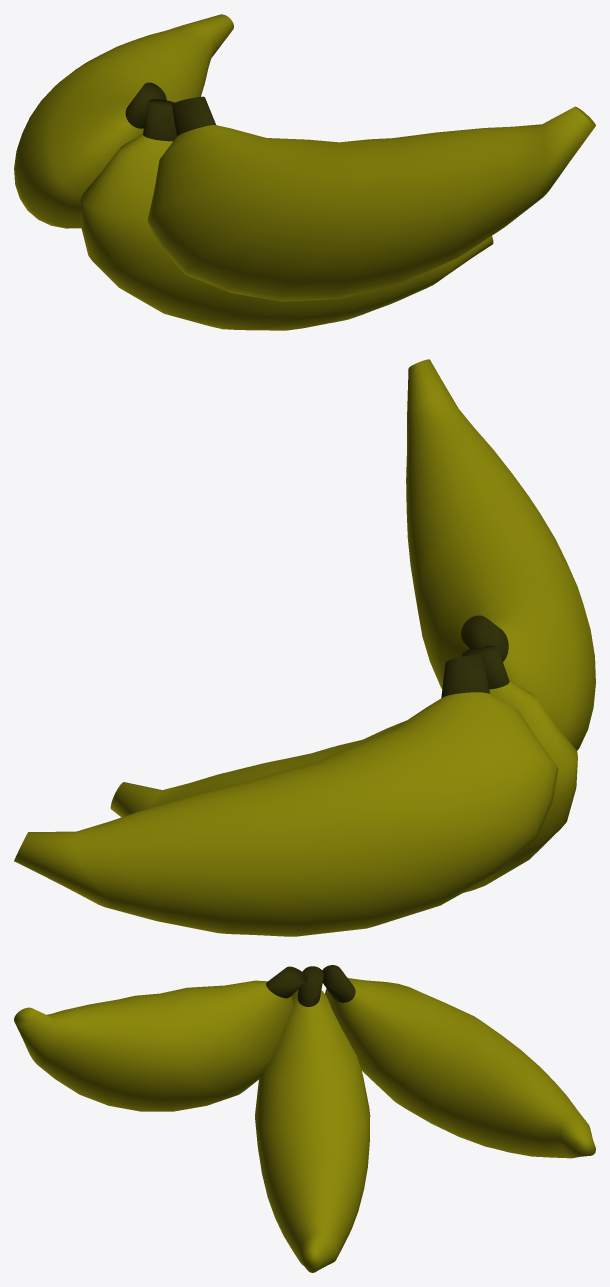
The model's file is Platano.fbx.
The picture shows the model from 3 angles, top to bottom: view 1: azimuth 30°, elevation 25°; view 2: azimuth 150°, elevation 25°; view 3: azimuth 270°, elevation 25°; orthographic projection. The views are drawn at different scales.
Visible parts, largest first — view 1: Plátano; view 2: Plátano; view 3: Plátano.
Part boxes in pixels (x1,y1,x2,y2): Plátano: (14,14,595,330); Plátano: (14,359,595,936); Plátano: (14,965,595,1272).
Bounding box in the file's own units: 107 × 79.27 × 163.
